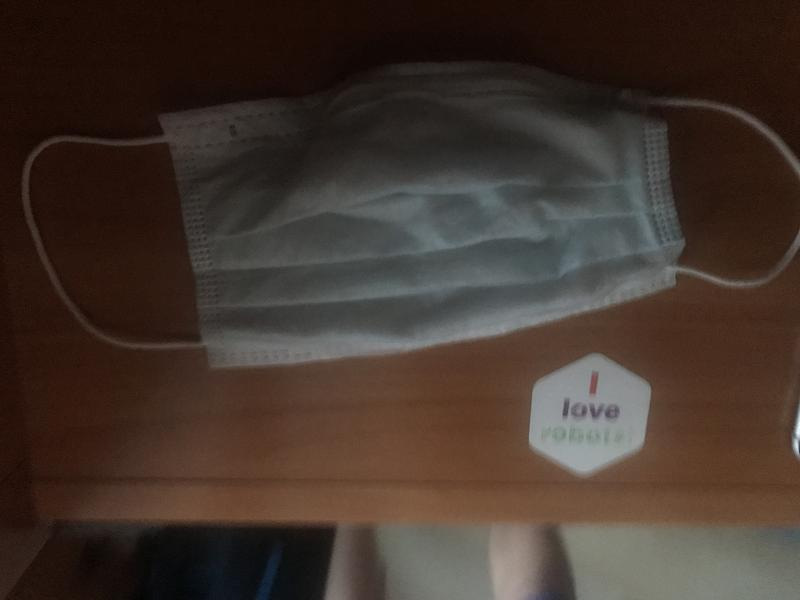medical_mask: (18, 61, 800, 371)
